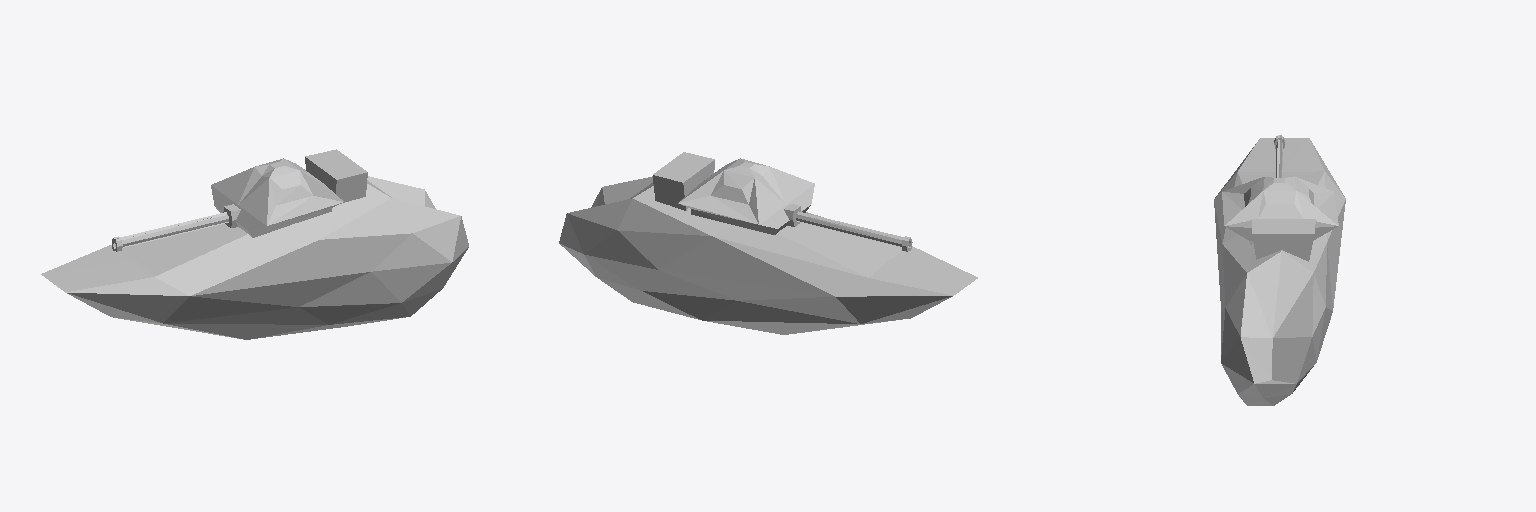
Rendered from vedette.obj.
3 renders of one model, left to right at view 1: azimuth 30°, elevation 25°; view 2: azimuth 150°, elevation 25°; view 3: azimuth 270°, elevation 25°, orthographic.
Parts seen in each view (by area): view 1: Icosphere; view 2: Icosphere; view 3: Icosphere.
Boxes of the visible parts, x1=… form: Icosphere: x1=41, y1=149, x2=468, y2=339; Icosphere: x1=559, y1=152, x2=977, y2=334; Icosphere: x1=1214, y1=135, x2=1345, y2=405.
Size of the model in its own units: 1.71 by 0.6997 by 0.4869.